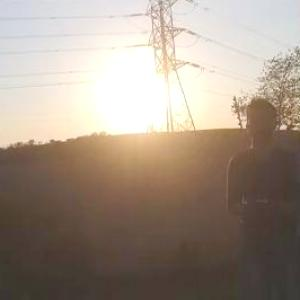follow: (204, 100, 296, 299)
